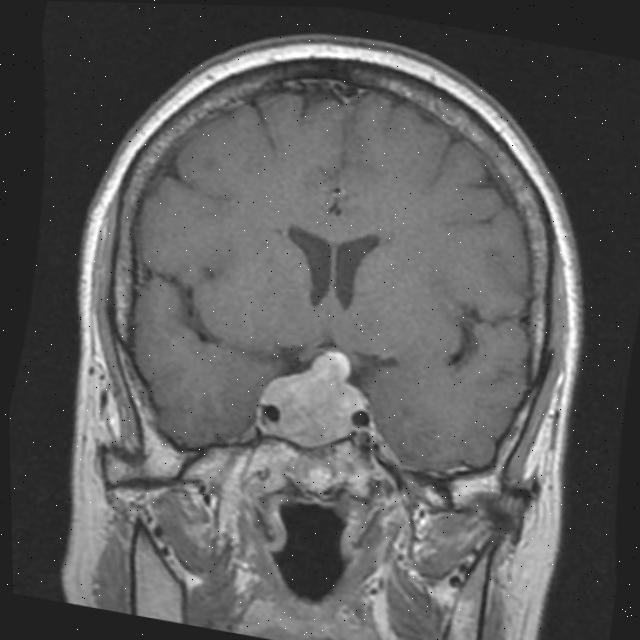Pituitary: (251, 338, 379, 459)
